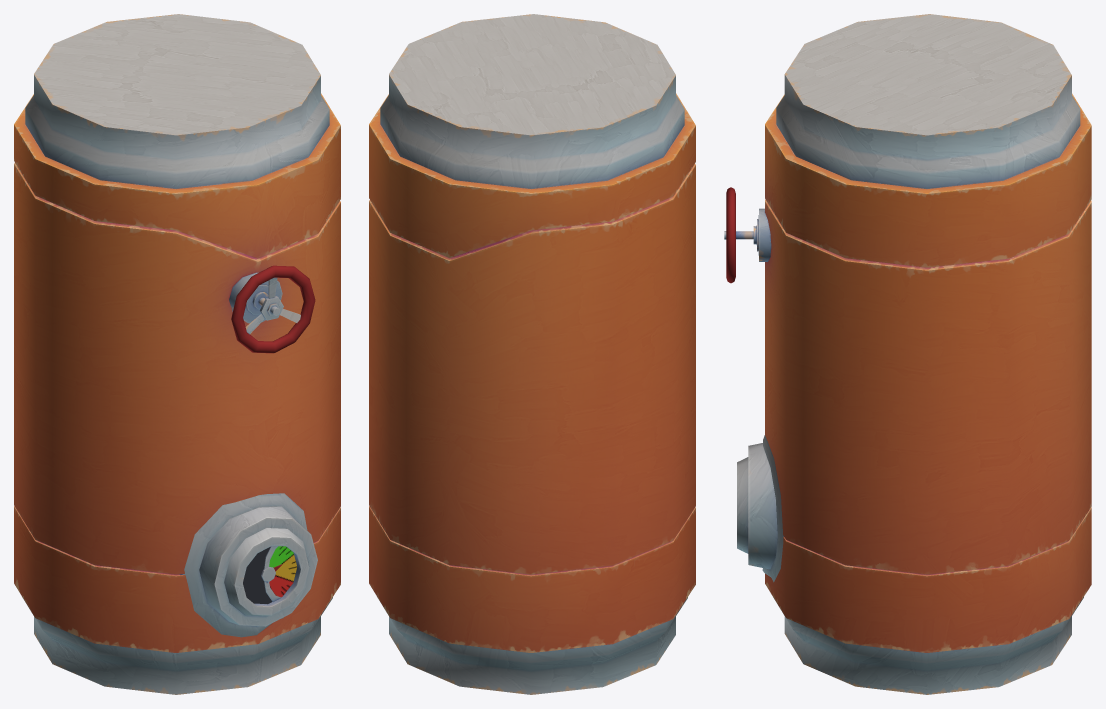
File: ManometroValvula.fbx
3 renders of one model, left to right at view 1: azimuth 30°, elevation 25°; view 2: azimuth 150°, elevation 25°; view 3: azimuth 270°, elevation 25°, orthographic.
Visible parts, largest first — view 1: ManometroValvula; view 2: ManometroValvula; view 3: ManometroValvula.
Boxes of the visible parts, left/top/right/bottom form: ManometroValvula: left=14, top=14, right=340, bottom=694; ManometroValvula: left=369, top=14, right=695, bottom=694; ManometroValvula: left=724, top=14, right=1091, bottom=694.
Size of the model in its own units: 1.23 by 2.33 by 1.39.
